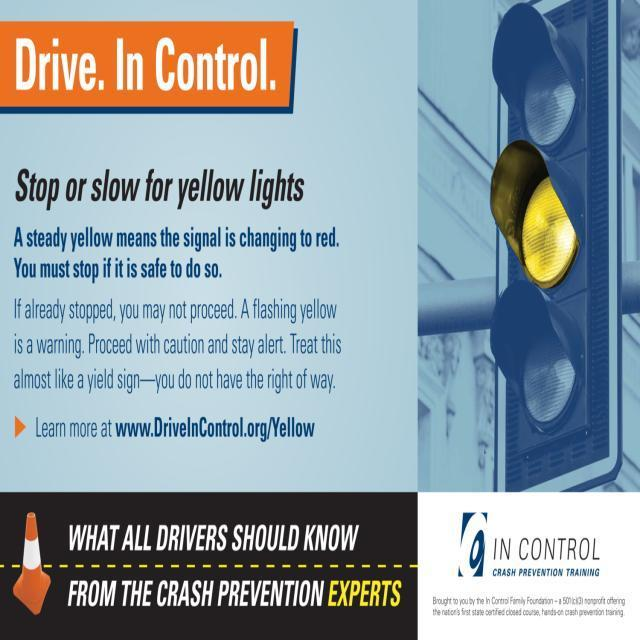yellow_light: (489, 0, 620, 488)
